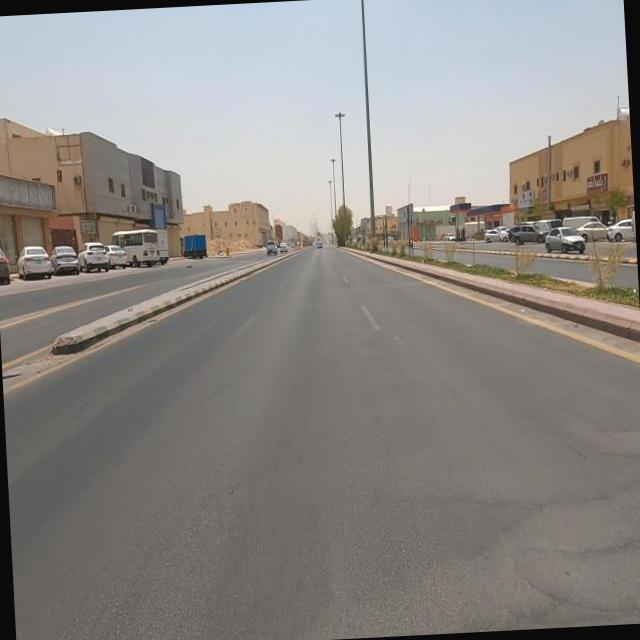debris: (0, 154, 91, 246)
